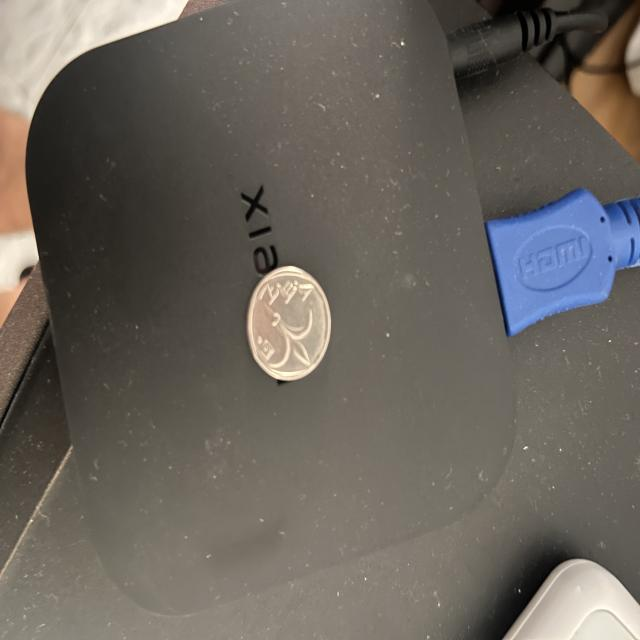1-shekel: (248, 269, 331, 378)
